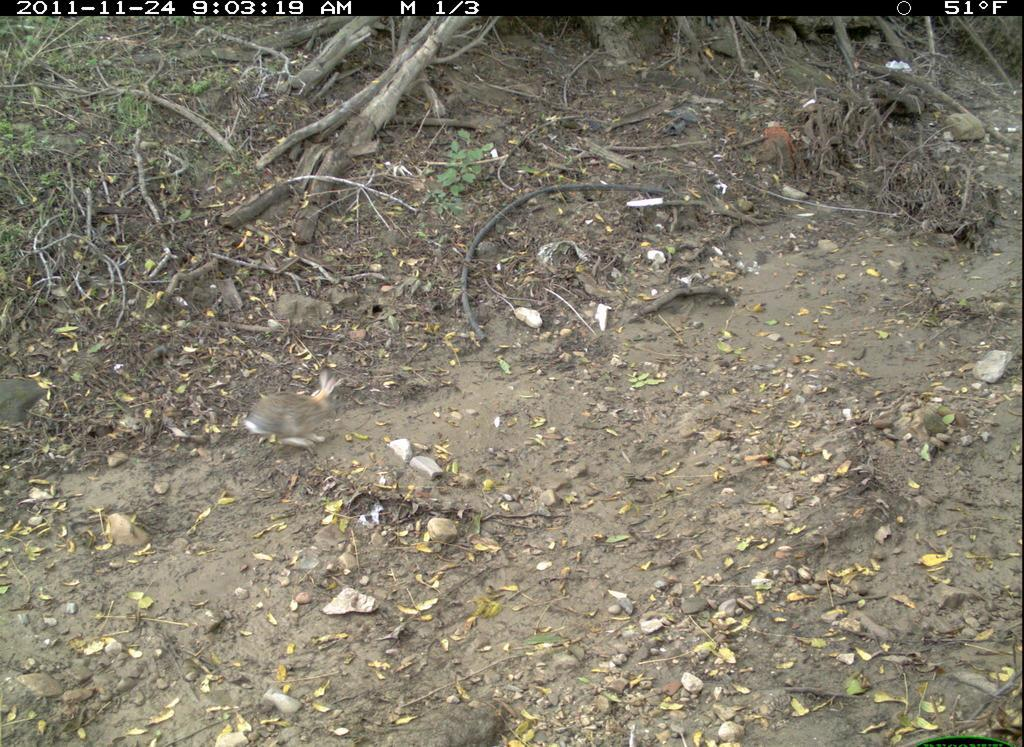rabbit: (239, 365, 356, 463)
